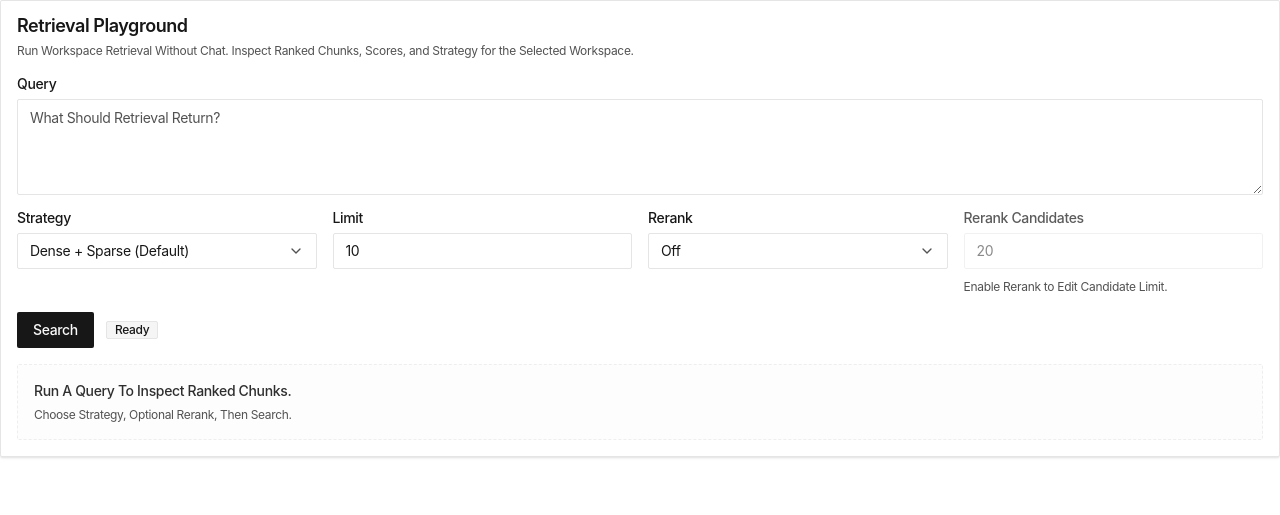
Test: RetrievalPlaygroundPanel › shows idle empty and clears stale results on validation failure
The width and height of the screenshot is (1280, 515).
Expected: the text "Run A Query To Inspect Ranked Chunks." is shown, 34,382 -> 291,399
Type "refund" into the text box labelled "Query" at x=640, y=146, box 17,98 -> 1263,194
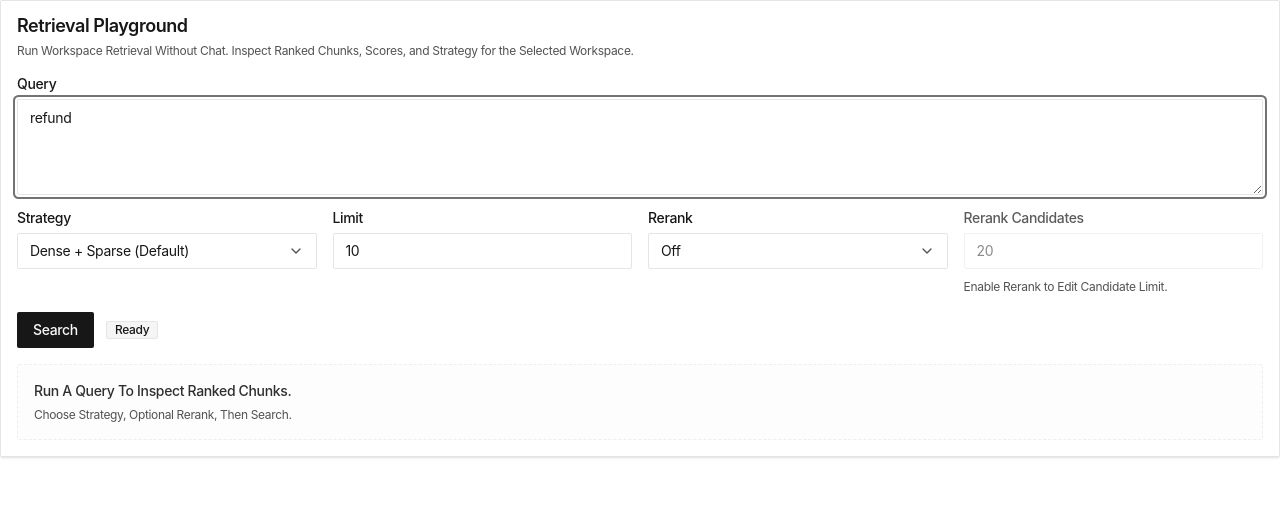
Click the button "Search" at x=55, y=330, box 17,312 -> 94,348
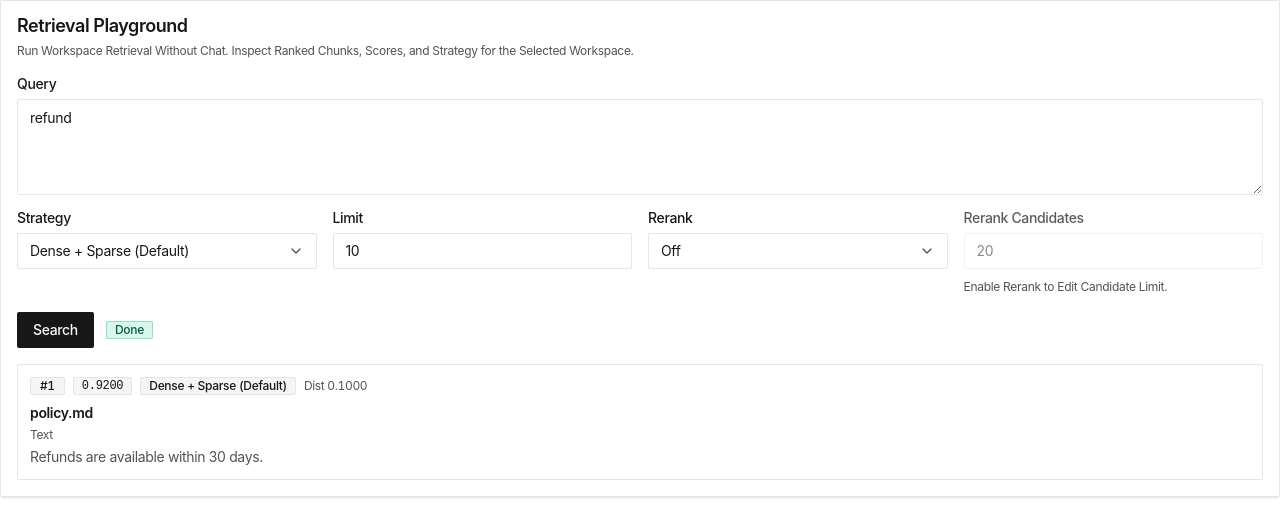
Expected: the text "#1" is shown, 30,377 -> 65,395
Clear the text box labelled "Query" at x=640, y=146, box 17,98 -> 1263,194
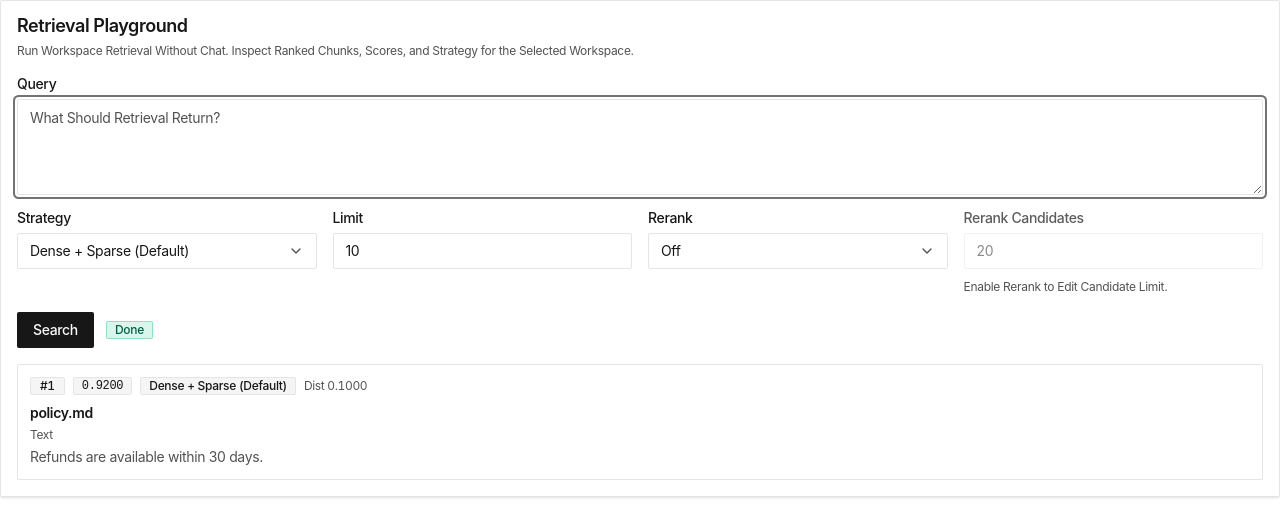
Click the button "Search" at x=55, y=330, box 17,312 -> 94,348
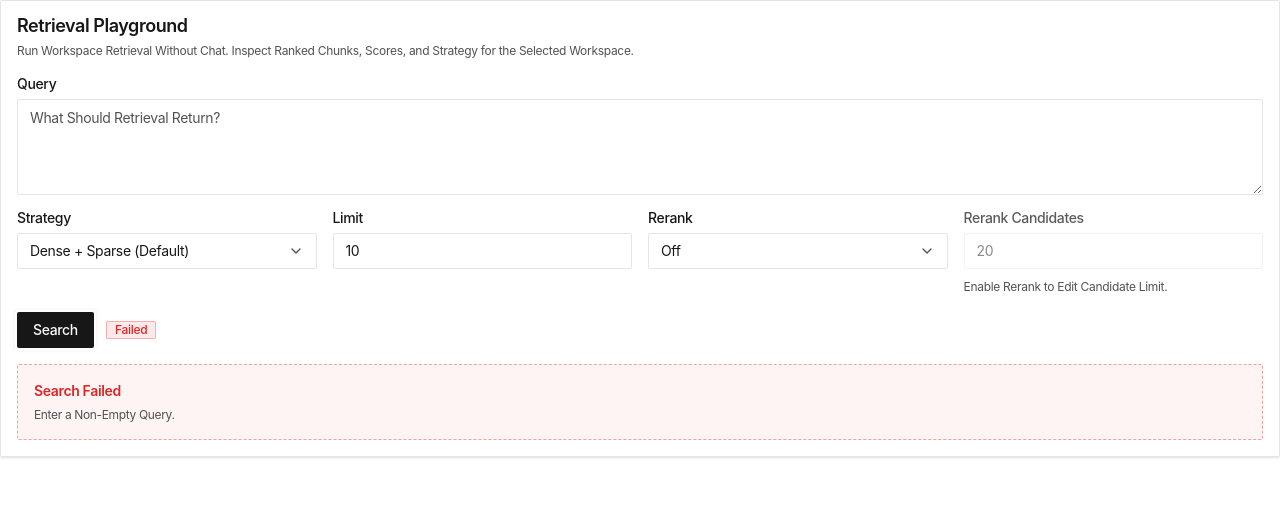
Expected: the message "Search Failed Enter a Non-Empty Query." is shown, 17,364 -> 1263,440
Expected: the text "#1" is gone
